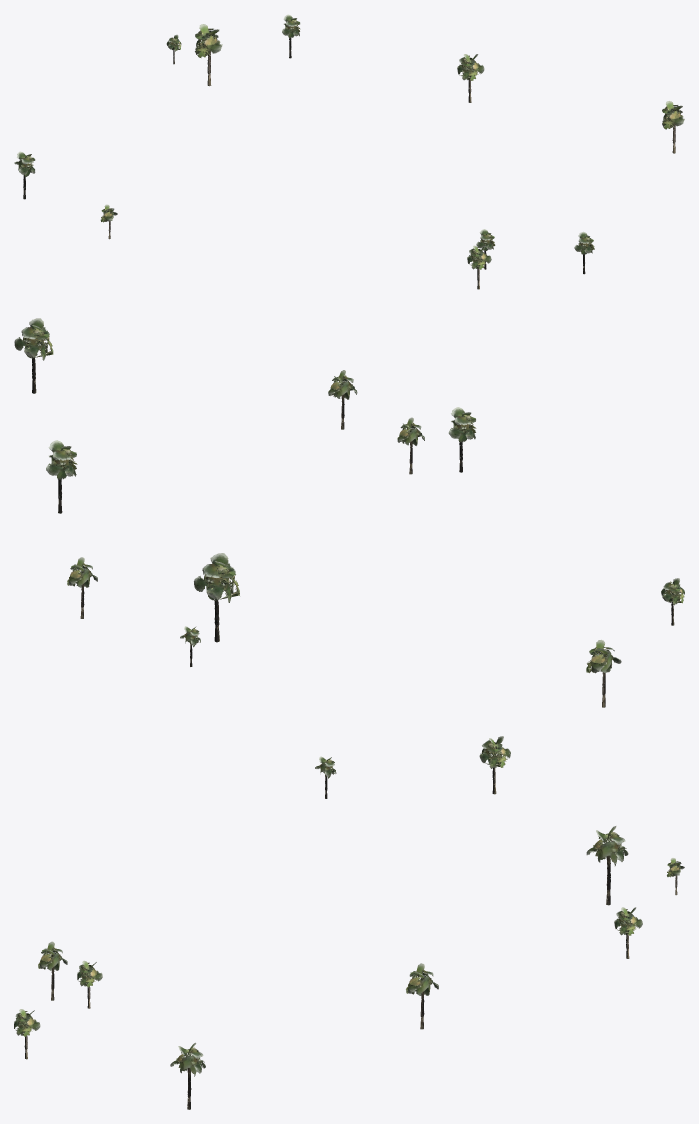
The model's file is Palmera02.glb.
3 views of the same model, one above another, from view 1: azimuth 30°, elevation 25°; view 2: azimuth 150°, elevation 25°; view 3: azimuth 270°, elevation 25° (orthographic). The views are drawn at different scales.
Visible parts, largest first — view 1: temp_mesh.ply.842; view 2: temp_mesh.ply.842; view 3: temp_mesh.ply.842.
Boxes of the visible parts, <box> form: temp_mesh.ply.842: <box>14,14,684,289</box>; temp_mesh.ply.842: <box>14,318,684,707</box>; temp_mesh.ply.842: <box>14,736,684,1109</box>.
Size of the model in its own units: 105 by 20.72 by 88.65.
Materials: 1 (1 with a texture image).
